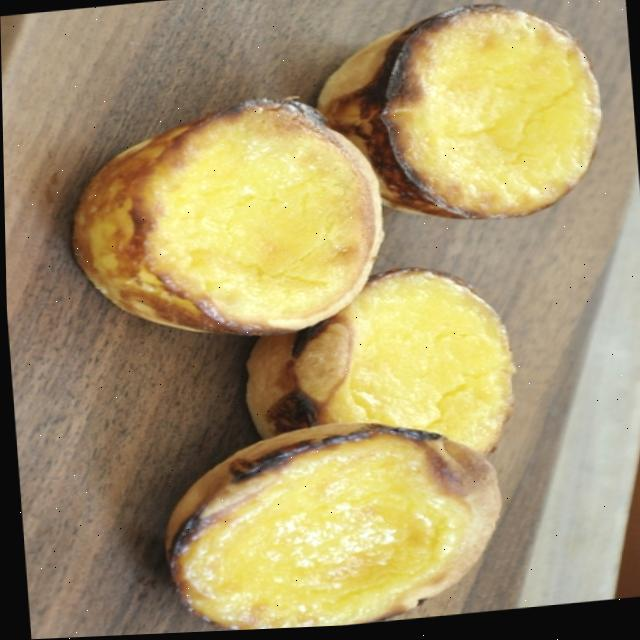炸货点心: (56, 83, 386, 360)
蛋糕甜品: (56, 83, 386, 360)
